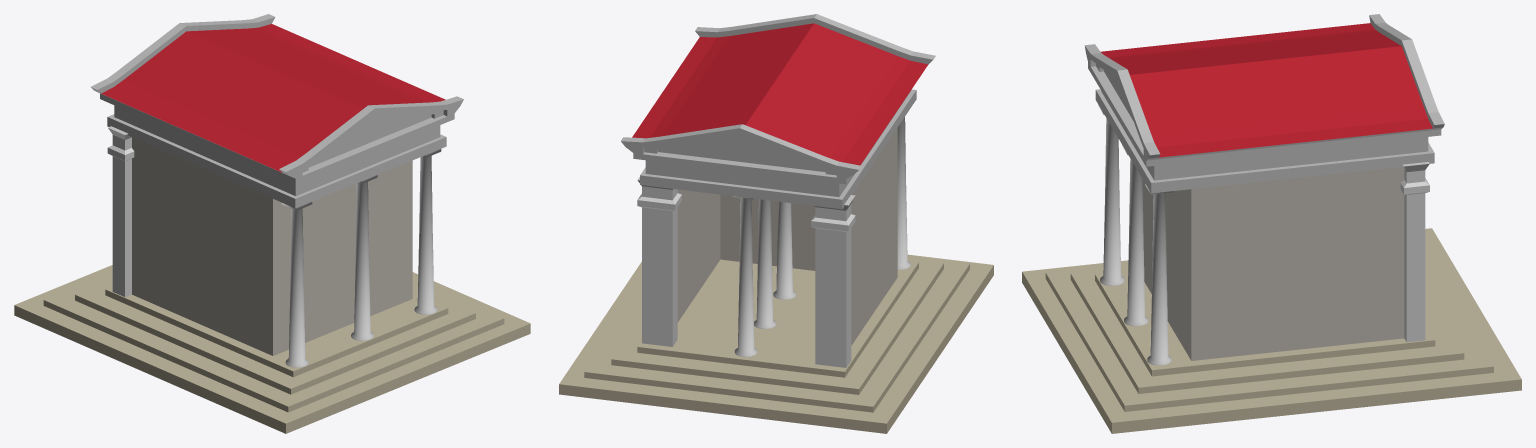
3 views of the same model, side by side, from view 1: azimuth 30°, elevation 25°; view 2: azimuth 150°, elevation 25°; view 3: azimuth 270°, elevation 25° (orthographic). The views are drawn at different scales.
Parts seen in each view (by area): view 1: Plane_011, Plane_010, Plane_007, Cube_021, Circle_006_Circle_000, Circle_006_Circle_002, Circle_006_Circle_001; view 2: Plane_007, Plane_011, Plane_010, Cube_021, Cube_020, Circle_006_Circle_003, Circle_006_Circle_004, Circle_006_Circle_005, Circle_006_Circle_000; view 3: Plane_011, Plane_010, Plane_007, Cube_020, Circle_006_Circle_001, Circle_006_Circle_000, Circle_006_Circle_002.
Boxes of the visible parts, x1,y1,x2,y2 form: Plane_011: [91, 14, 463, 208]; Plane_010: [132, 137, 412, 355]; Plane_007: [14, 265, 530, 433]; Cube_021: [107, 126, 134, 297]; Circle_006_Circle_000: [281, 202, 312, 367]; Circle_006_Circle_002: [351, 175, 377, 340]; Circle_006_Circle_001: [414, 149, 441, 314]; Plane_007: [559, 254, 993, 433]; Plane_011: [621, 14, 935, 209]; Plane_010: [677, 128, 897, 345]; Cube_021: [811, 195, 855, 367]; Cube_020: [637, 177, 681, 346]; Circle_006_Circle_003: [732, 196, 757, 356]; Circle_006_Circle_004: [754, 199, 776, 328]; Circle_006_Circle_005: [773, 201, 796, 299]; Circle_006_Circle_000: [897, 117, 910, 269]; Plane_011: [1084, 14, 1444, 193]; Plane_010: [1142, 166, 1404, 360]; Plane_007: [1022, 228, 1521, 433]; Cube_020: [1400, 162, 1429, 342]; Circle_006_Circle_001: [1145, 184, 1173, 365]; Circle_006_Circle_000: [1098, 104, 1124, 285]; Circle_006_Circle_002: [1122, 145, 1148, 326].
Size of the model in its own units: 27.37 by 18.51 by 29.69.
